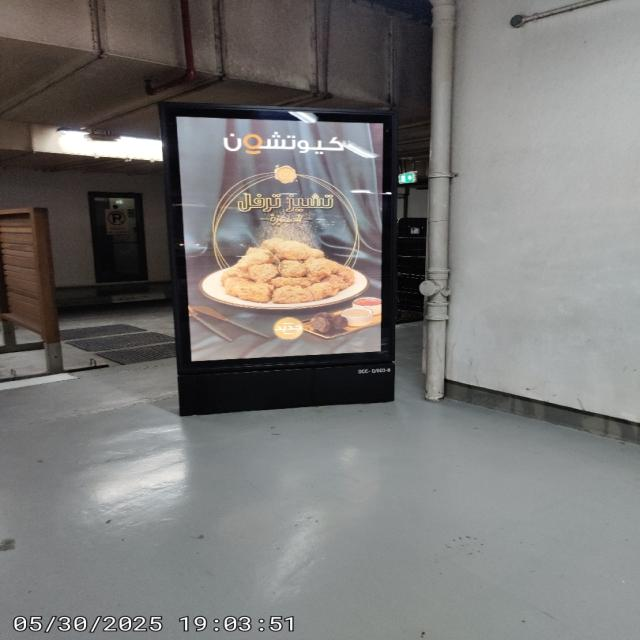mupi: (161, 99, 400, 419)
